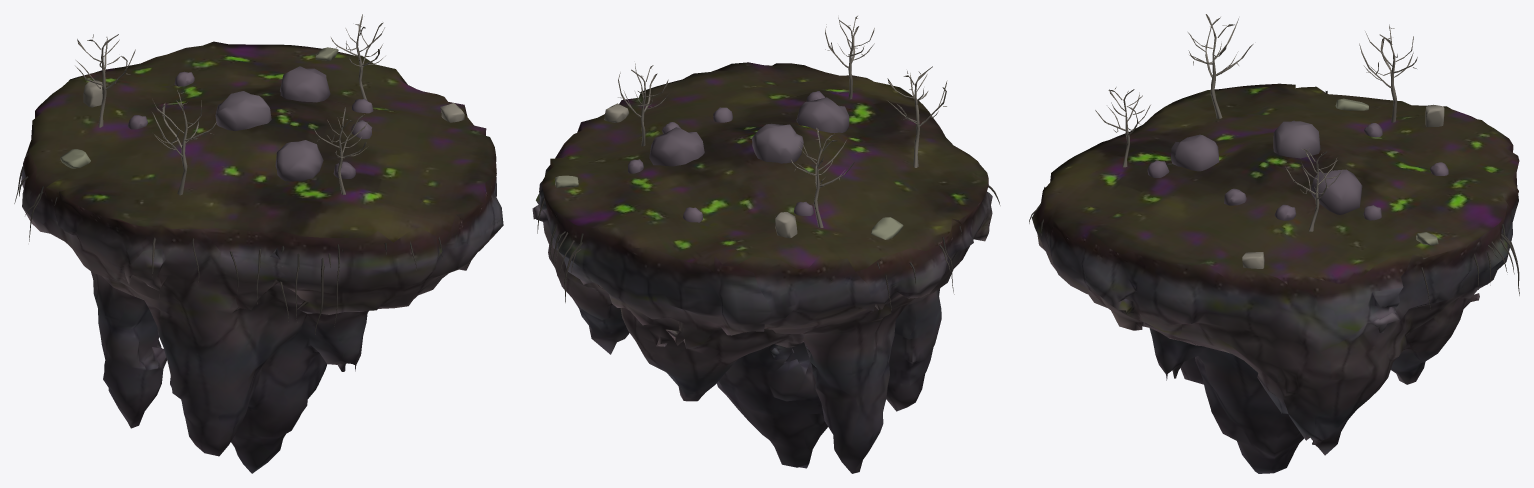
Rendered from island-nest-lod1.glb.
The picture shows the model from 3 angles, left to right: view 1: azimuth 30°, elevation 25°; view 2: azimuth 150°, elevation 25°; view 3: azimuth 270°, elevation 25°; orthographic projection. The views are drawn at different scales.
Visible parts, largest first — view 1: Terrain, Detail; view 2: Terrain, Detail; view 3: Terrain, Detail.
Part boxes in pixels (<box>): Terrain: <box>21,41,503,473</box>; Detail: <box>14,14,464,334</box>; Terrain: <box>532,62,992,473</box>; Detail: <box>537,16,1000,312</box>; Terrain: <box>1032,83,1519,473</box>; Detail: <box>1029,14,1519,309</box>.
Bounding box in the file's own units: 35.87 × 34.33 × 37.14.
Materials: 2 (1 with a texture image).
